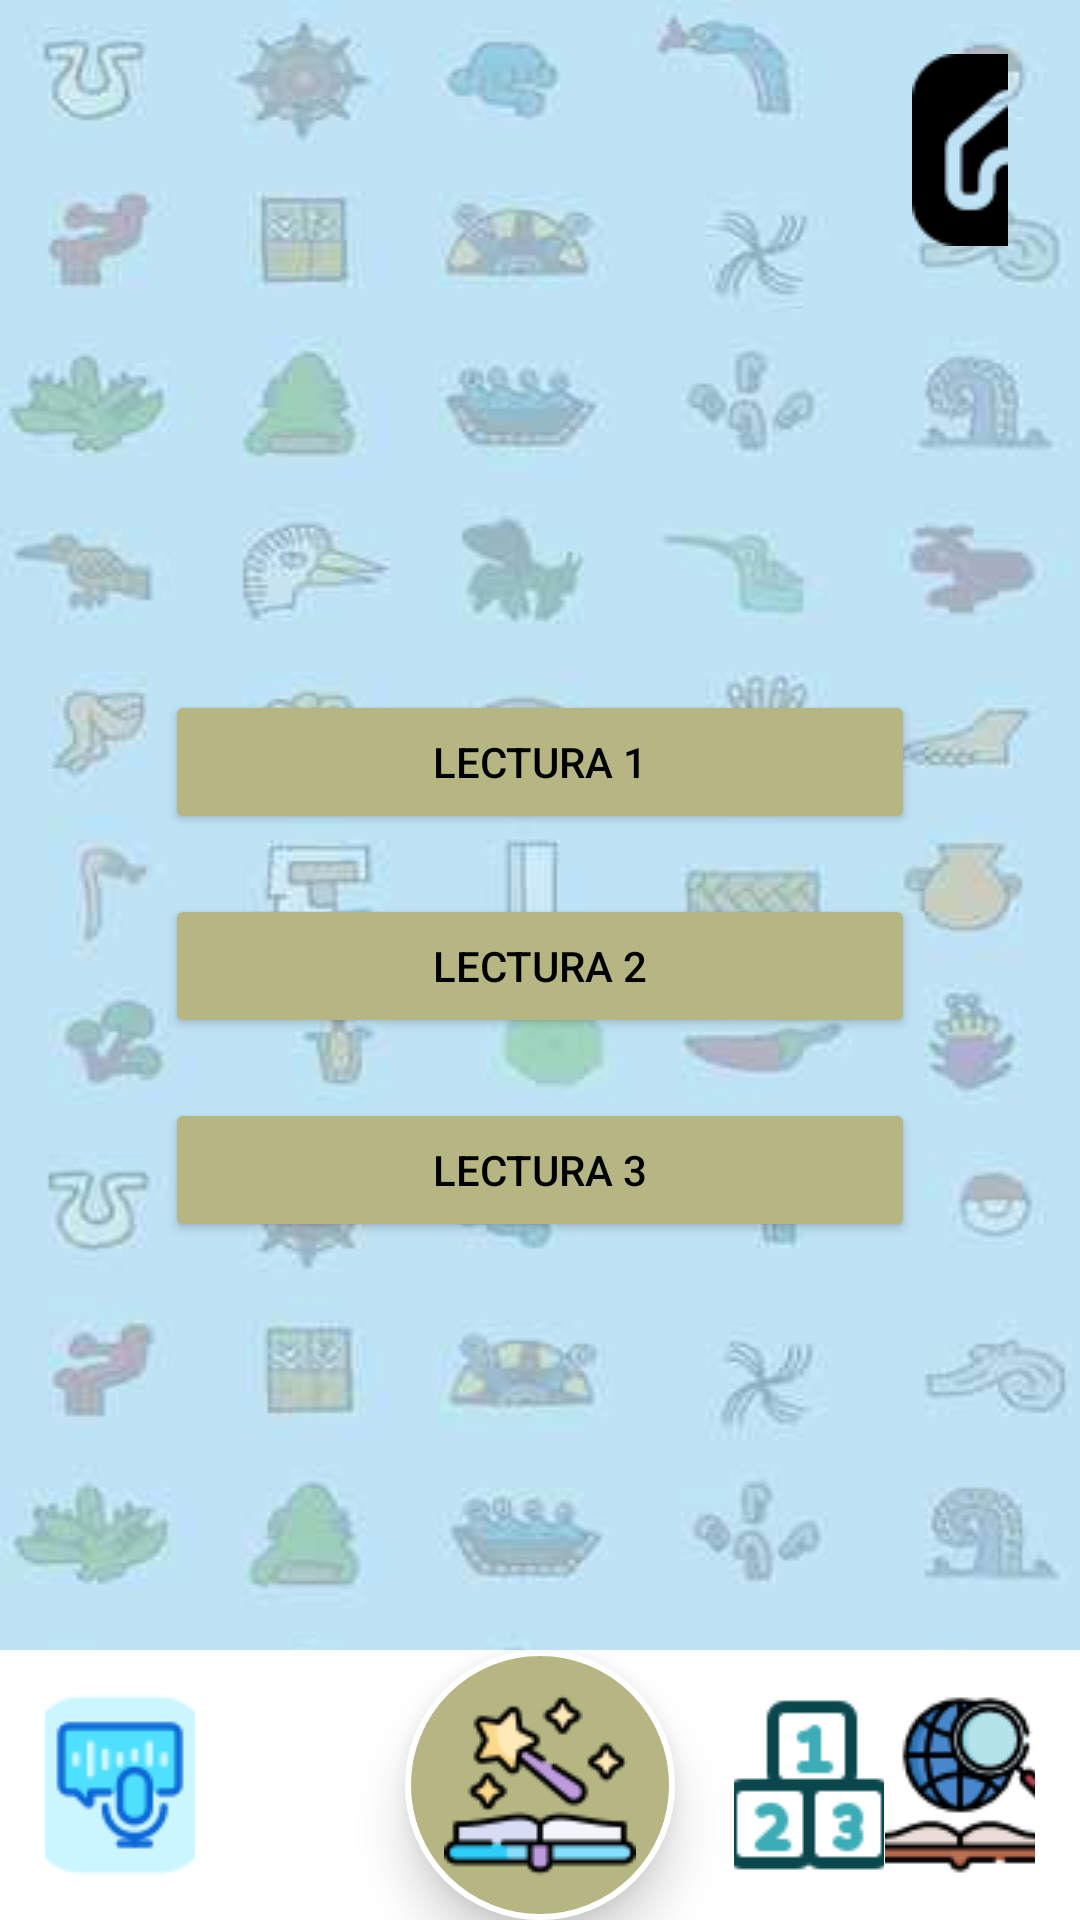

Named icons in this screenshot (1080 x 1920) and their centers, (x,y):
Matemáticas: (809,1785)
Voz: (120,1785)
